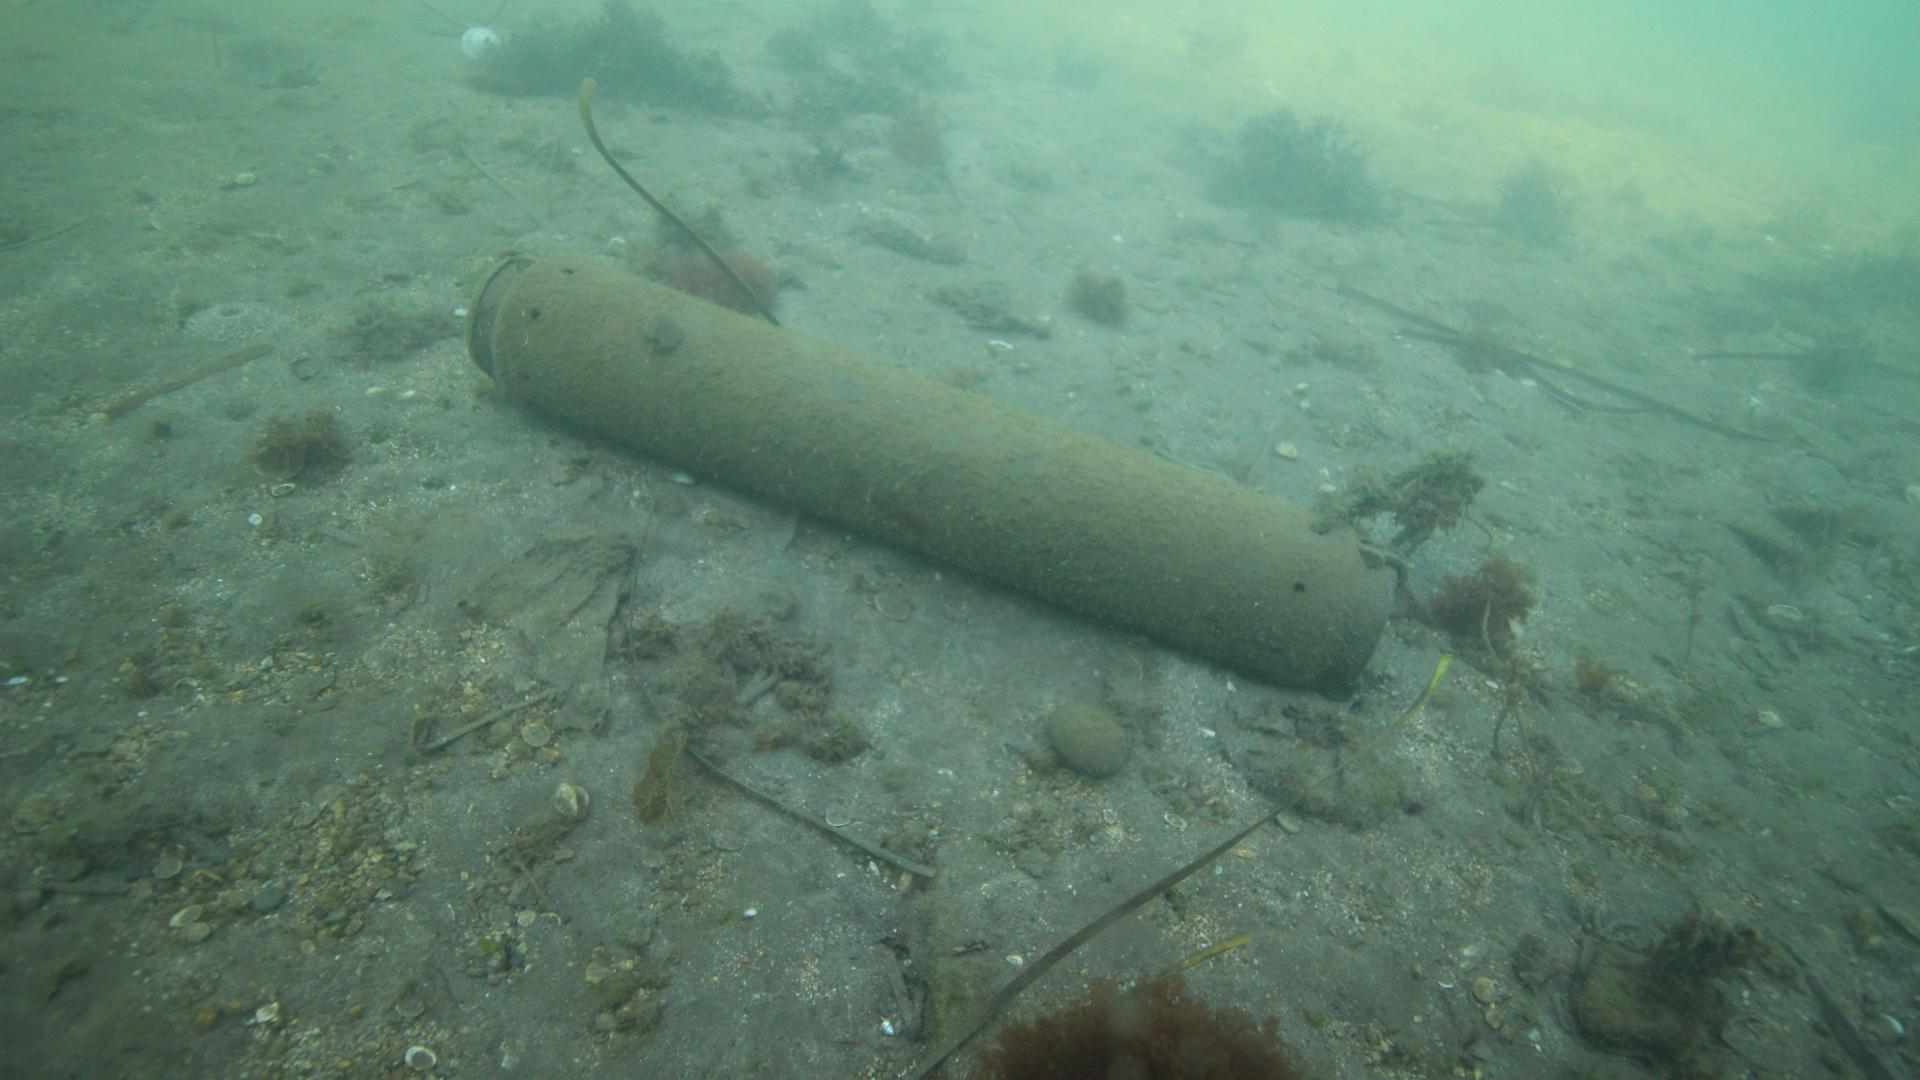eel fish trap: (460, 249, 1403, 705)
